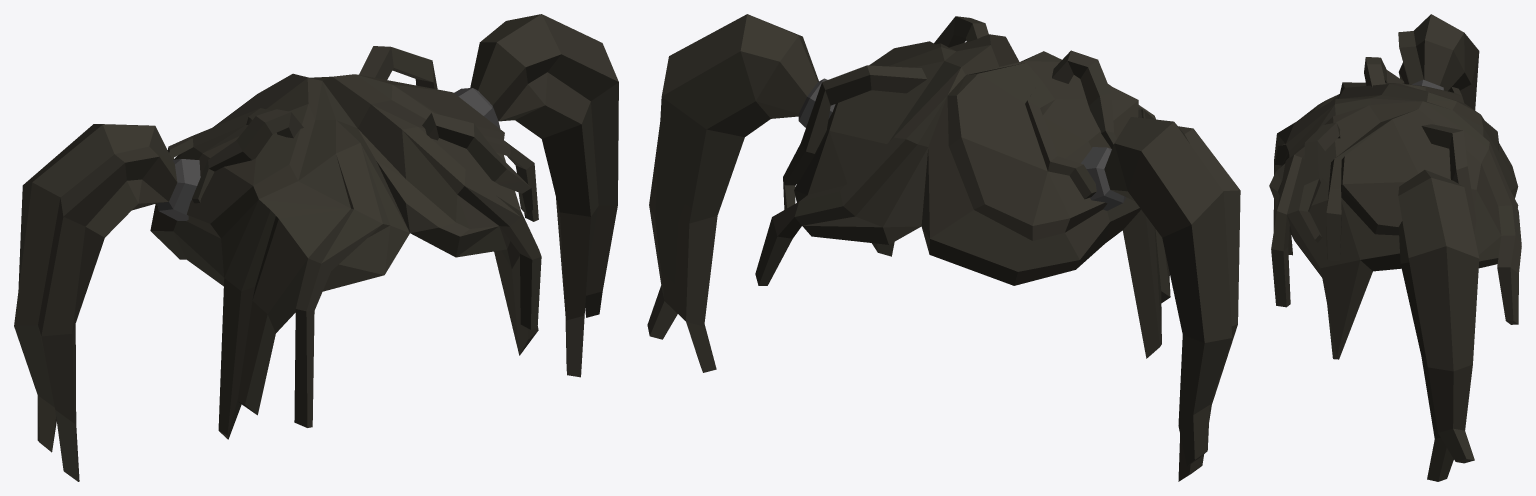
File: SM_Chr_Attach_Blobber_Hair_02.fbx
The picture shows the model from 3 angles, left to right: view 1: azimuth 30°, elevation 25°; view 2: azimuth 150°, elevation 25°; view 3: azimuth 270°, elevation 25°; orthographic projection. The views are drawn at different scales.
Visible parts, largest first — view 1: SM_Chr_Attach_Blobber_Hair_02; view 2: SM_Chr_Attach_Blobber_Hair_02; view 3: SM_Chr_Attach_Blobber_Hair_02.
Boxes of the visible parts, left/top/right/bottom form: SM_Chr_Attach_Blobber_Hair_02: left=14, top=14, right=618, bottom=481; SM_Chr_Attach_Blobber_Hair_02: left=647, top=14, right=1240, bottom=481; SM_Chr_Attach_Blobber_Hair_02: left=1269, top=14, right=1521, bottom=481.
Bounding box in the file's own units: 59.94 × 35.69 × 28.14.
